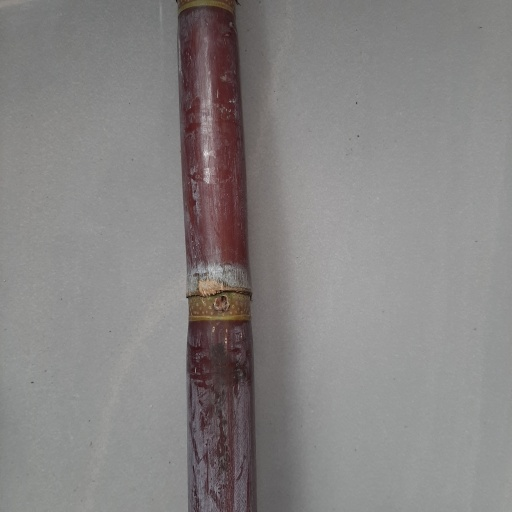Damage_Bud: (211, 294, 231, 314)
